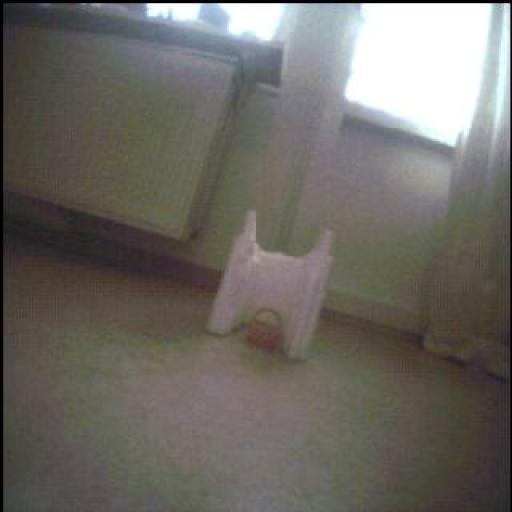Basket: (248, 310, 285, 351)
